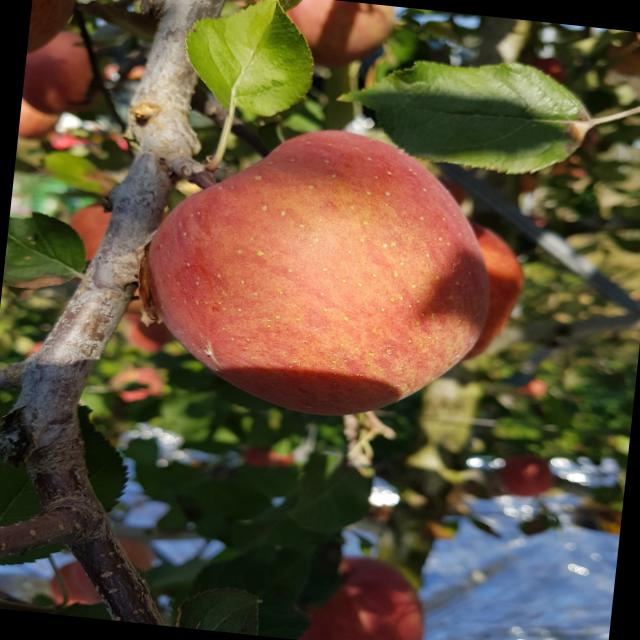fresh: (106, 105, 543, 442)
